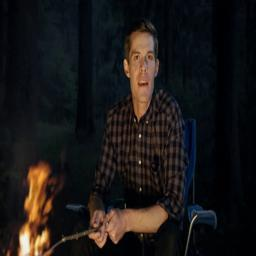fire: (19, 162, 53, 256)
